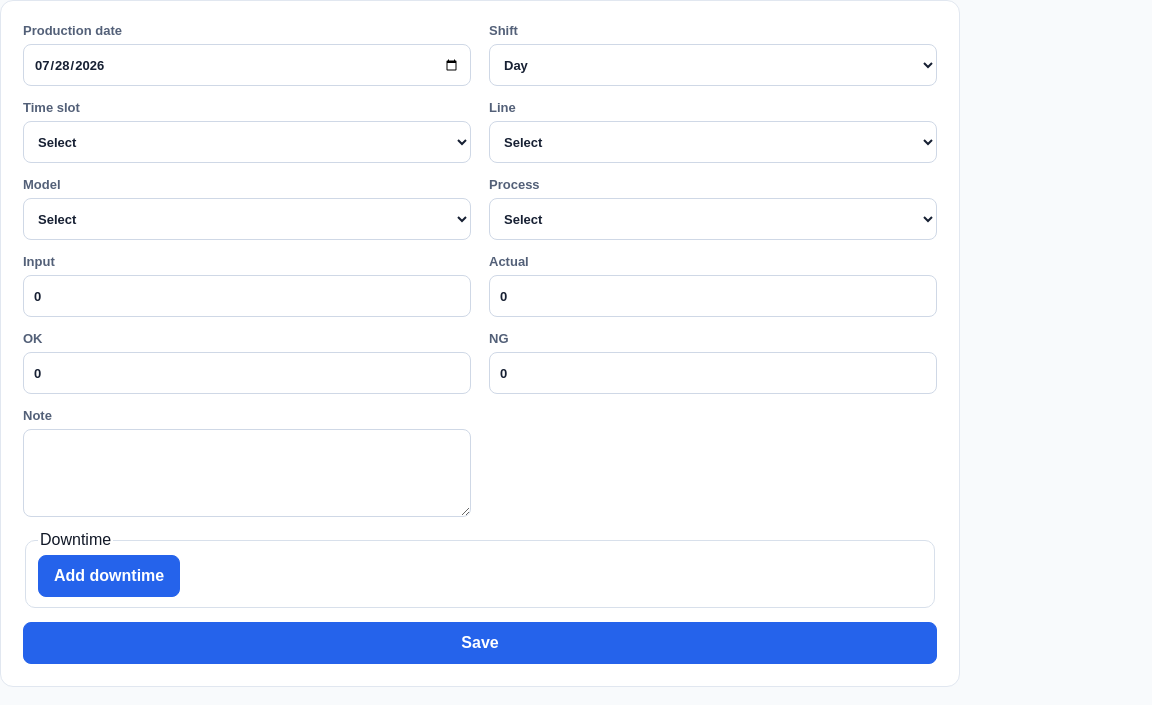
Scenario: production entry accessibility › marks and focuses downtime minutes when total downtime exceeds the slot
Earlier steps of the test are not shown.
Select "A" in the dropdown labelled "Time slot" at (247, 142), box [23,121,471,163]
Select "Line 1" in the dropdown labelled "Line" at (713, 142), box [489,121,937,163]
Select "Model 1" in the dropdown labelled "Model" at (247, 219), box [23,198,471,240]
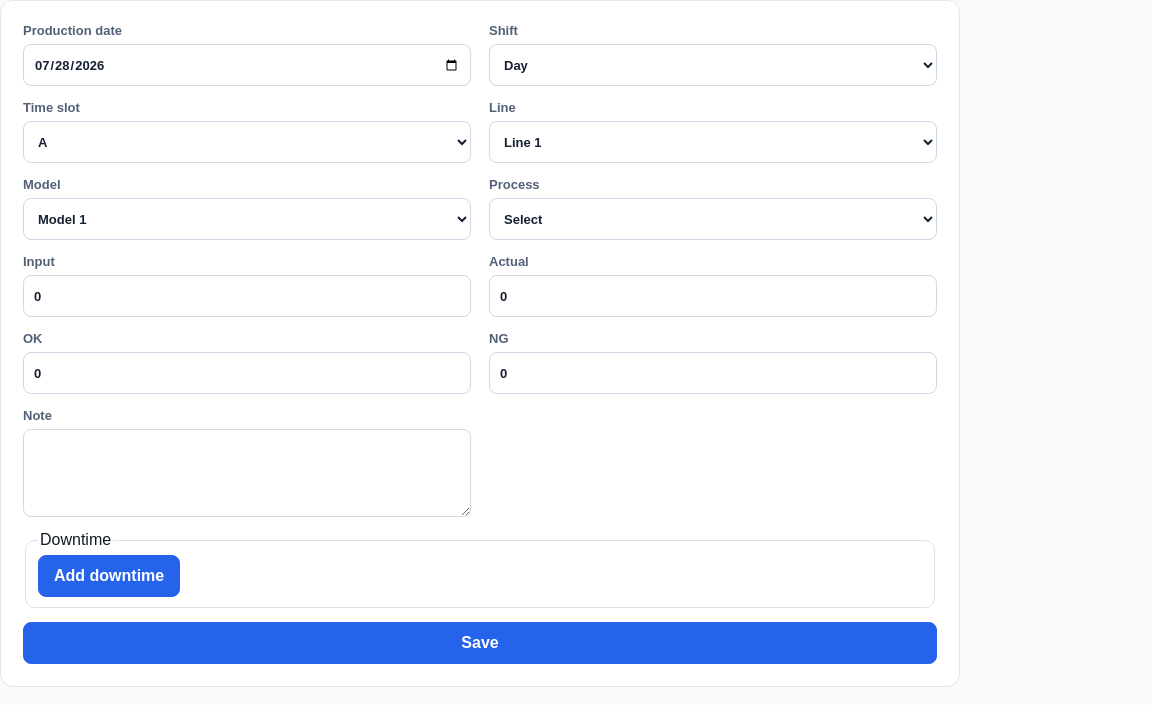
Select "AOI" in the dropdown labelled "Process" at (713, 219), box [489,198,937,240]
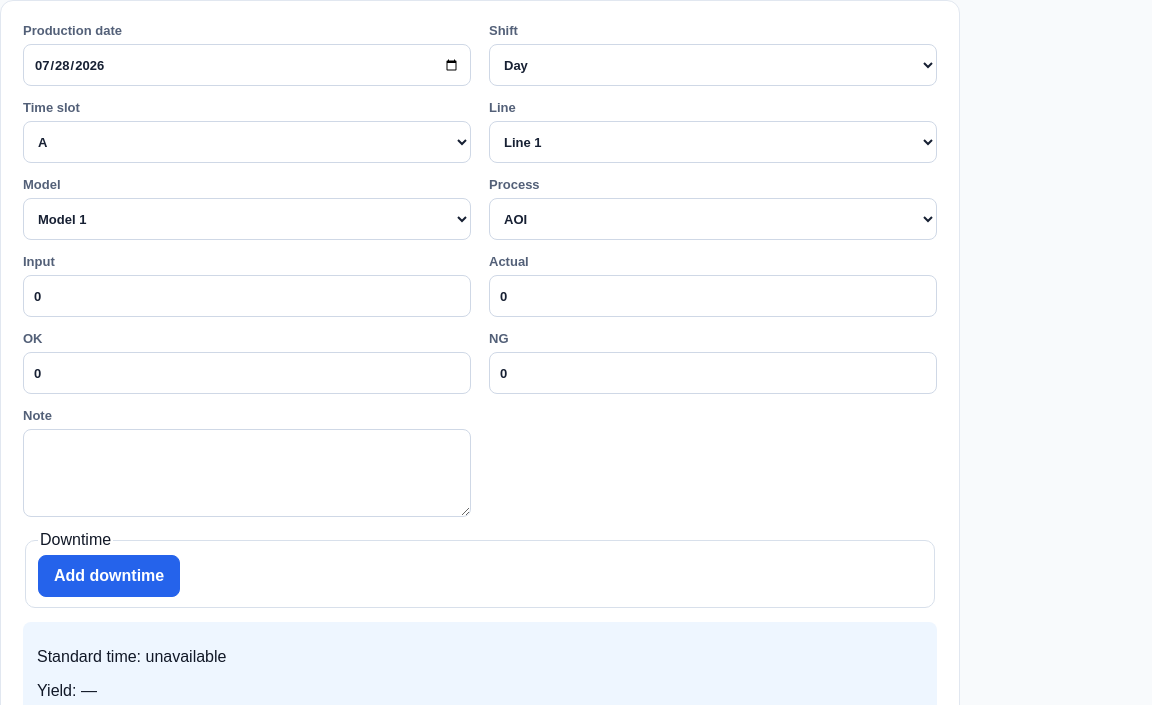
Click the button "Add downtime".
click(109, 576)  # box [38,555,180,597]
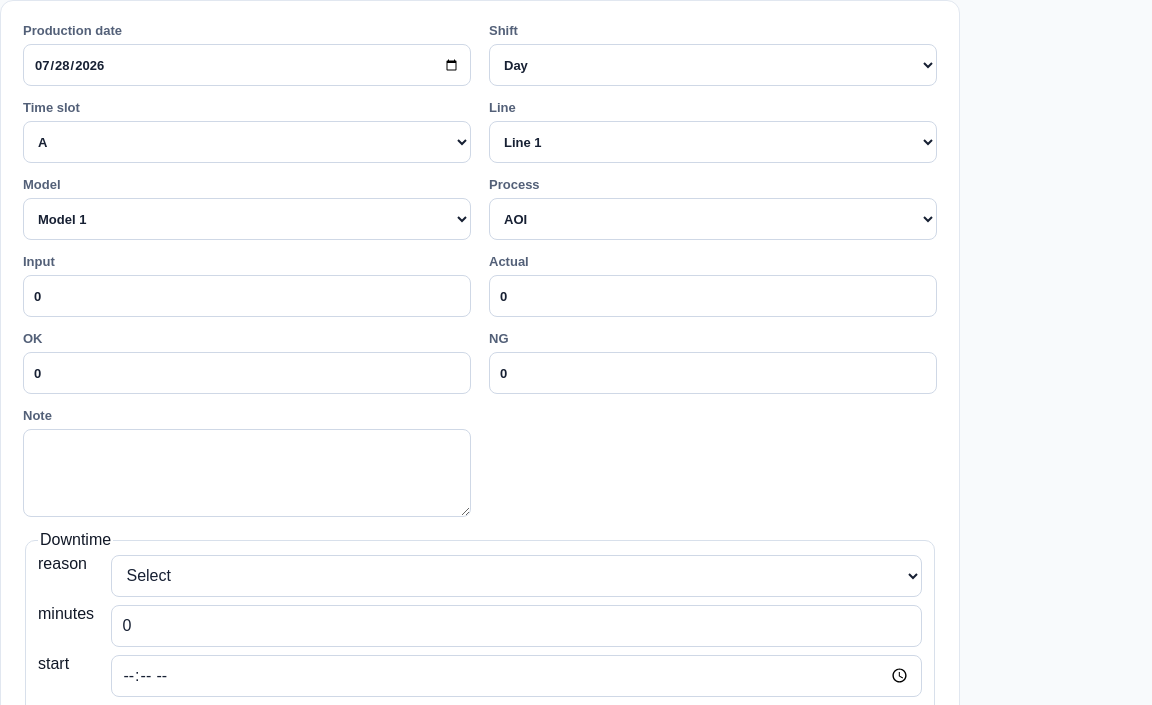
Select "Breakdown" in the dropdown named "Downtime reason 1" at (517, 576), box [112,555,922,597]
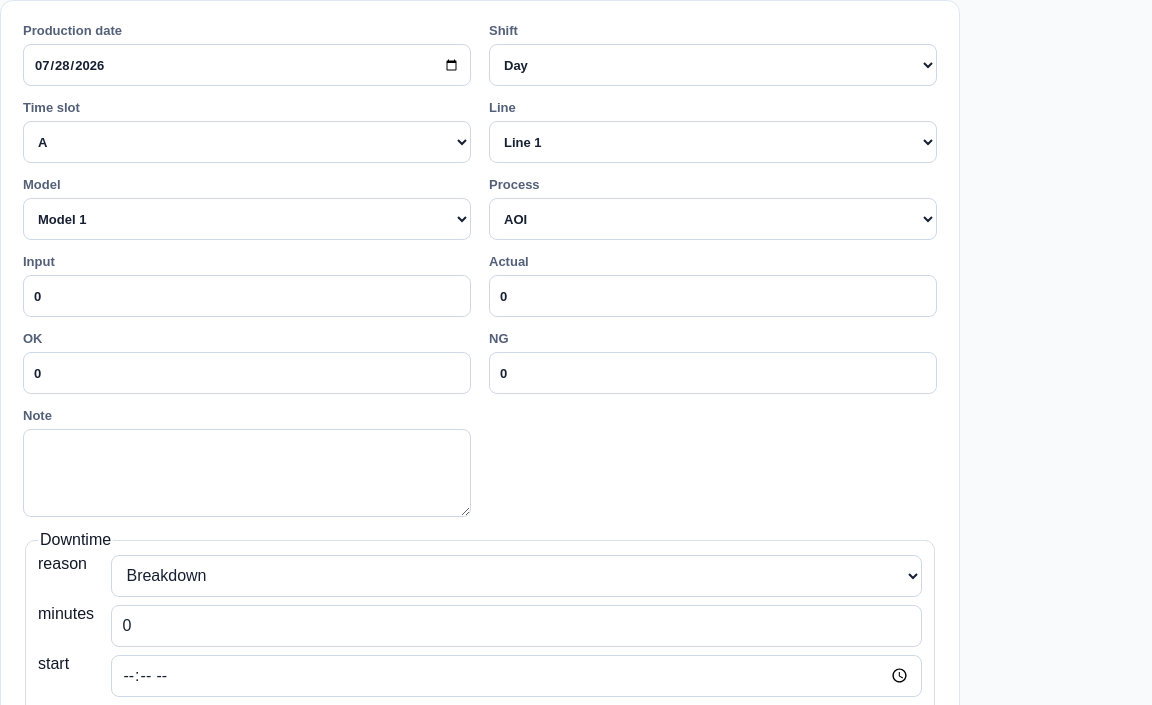
Replace the text in the number field named "Downtime minutes 1" with "61" at (517, 626), box [112,605,922,647]
(page scrolled)
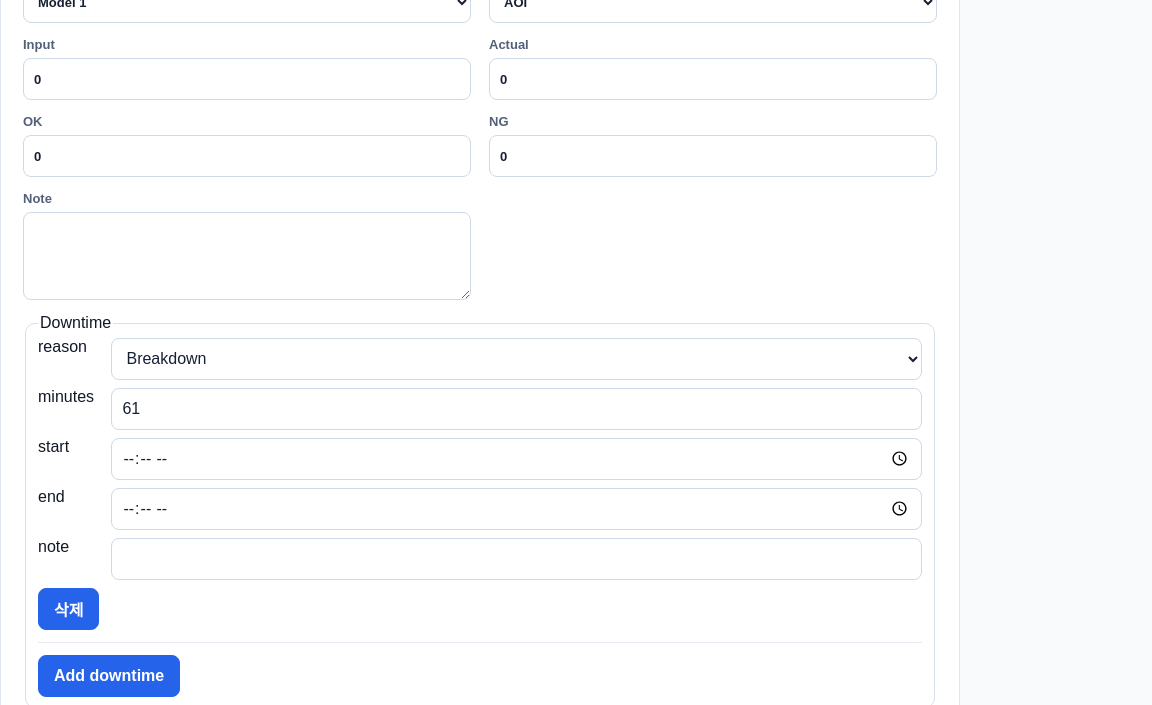
Submit the form named "Save"
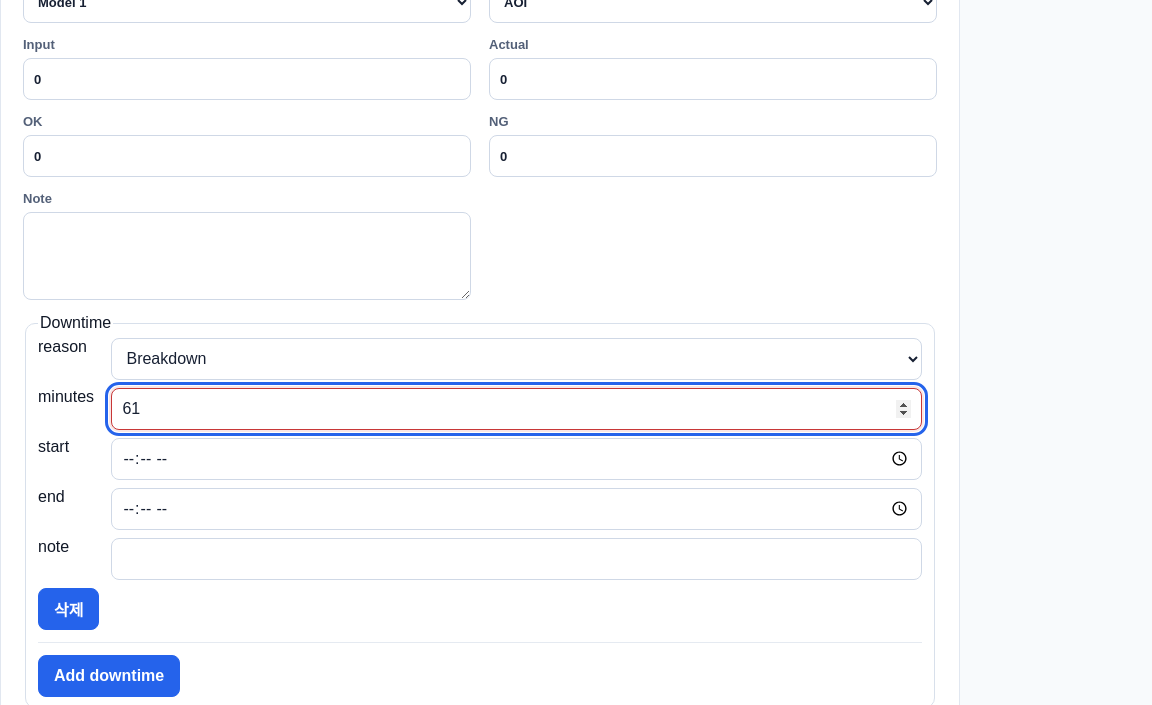
Now the number field named "Downtime minutes 1" is marked as invalid, box [112,388,922,430]
Now the number field named "Downtime minutes 1" has attribute aria-describedby="entry-validation-error", box [112,388,922,430]
